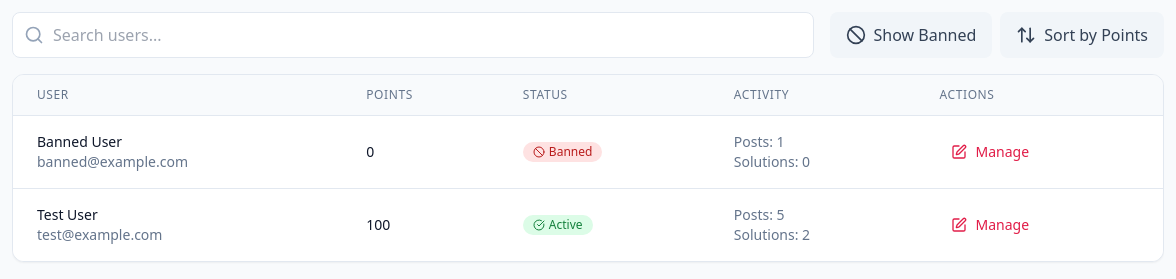
Test: UserManagementTable › shows banned users filter
This screenshot has width=1176, height=279.
Click the button "Show Banned" at (911, 35), box [830, 12, 992, 58]
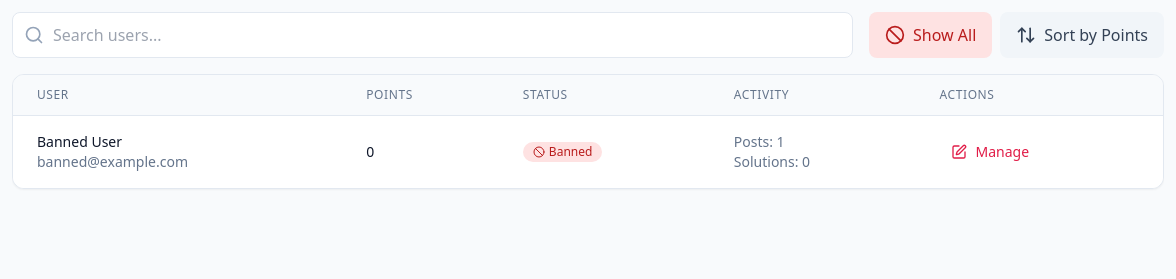
Expected: the text "Banned User" is shown, [37, 132, 122, 151]
Result: the text "Test User" is gone
